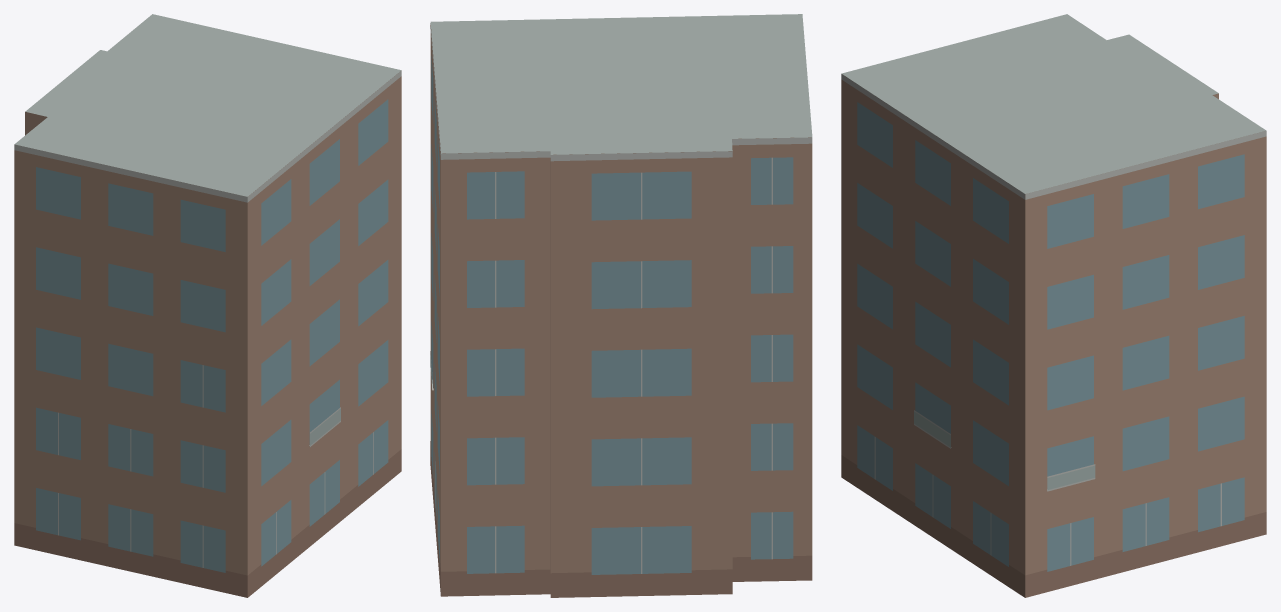
File: survey-upis-32683386.glb
The picture shows the model from 3 angles, left to right: view 1: azimuth 30°, elevation 25°; view 2: azimuth 150°, elevation 25°; view 3: azimuth 270°, elevation 25°; orthographic projection. The views are drawn at different scales.
Visible parts, largest first — view 1: survey-upis-32683386.tmp; view 2: survey-upis-32683386.tmp; view 3: survey-upis-32683386.tmp.
Boxes of the visible parts, x1,y1,x2,y2 form: survey-upis-32683386.tmp: [14, 14, 401, 597]; survey-upis-32683386.tmp: [430, 14, 812, 597]; survey-upis-32683386.tmp: [841, 14, 1266, 597].
Bounding box in the file's own units: 16.21 × 16.94 × 16.18.
